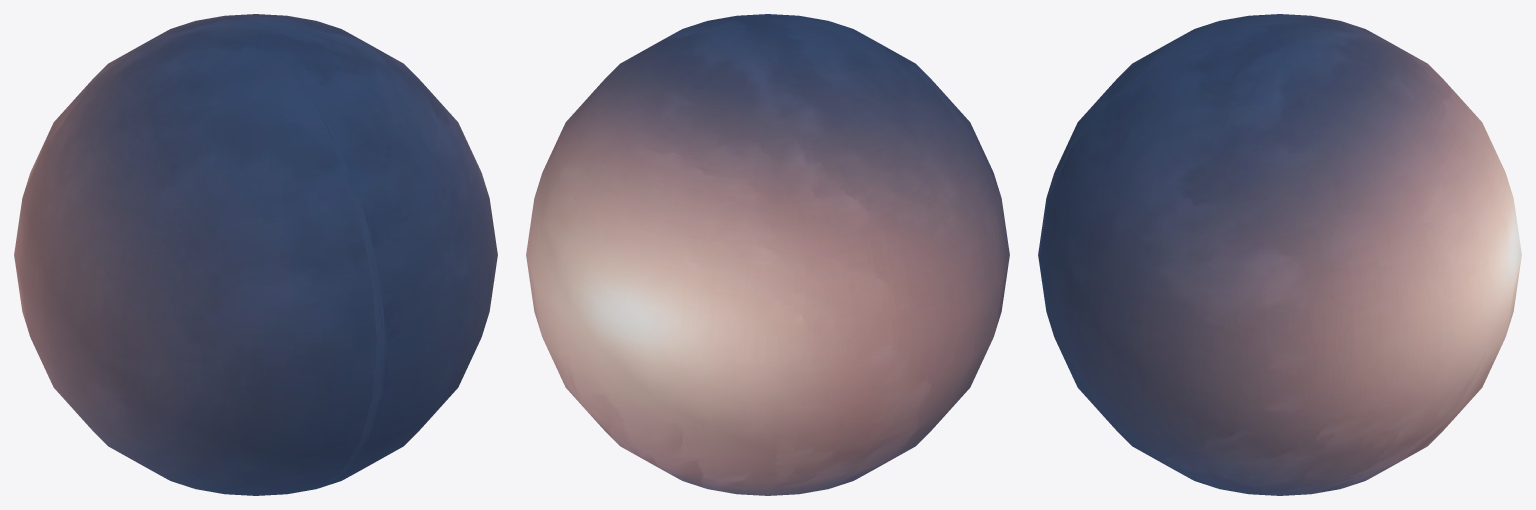
File: sky_comp.glb
3 renders of one model, left to right at view 1: azimuth 30°, elevation 25°; view 2: azimuth 150°, elevation 25°; view 3: azimuth 270°, elevation 25°, orthographic.
Parts seen in each view (by area): view 1: Sky; view 2: Sky; view 3: Sky.
Boxes of the visible parts, x1,y1,x2,y2 form: Sky: (14, 14, 497, 495); Sky: (526, 14, 1009, 495); Sky: (1038, 14, 1521, 495).
Bounding box in the file's own units: 12.02 × 12.02 × 12.02.
Materials: 5 (5 with a texture image).
